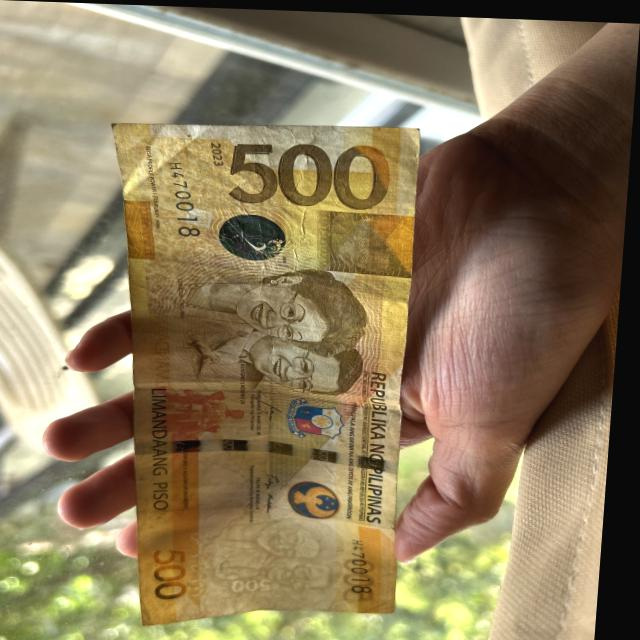concealed_value: (337, 209, 416, 273)
optically_variable_device: (221, 213, 288, 257)
see_through_mark: (189, 531, 219, 606)
value_watermark: (240, 571, 283, 591)
watermark: (214, 511, 366, 600)
